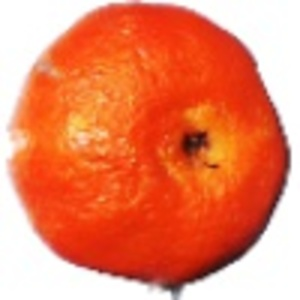tangerina: (1, 1, 292, 300)
